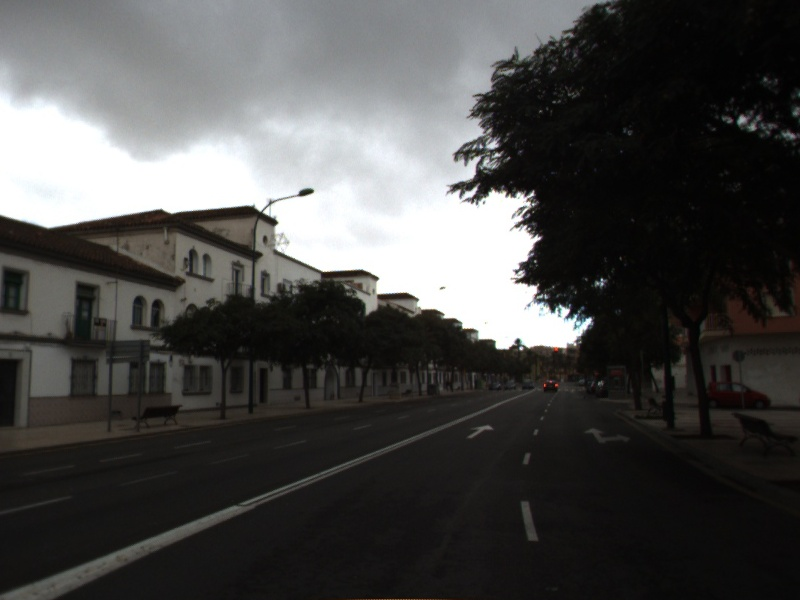STRAIGHT: (465, 423, 495, 440)
STRAIGHT_RIGHT: (583, 426, 632, 444)
